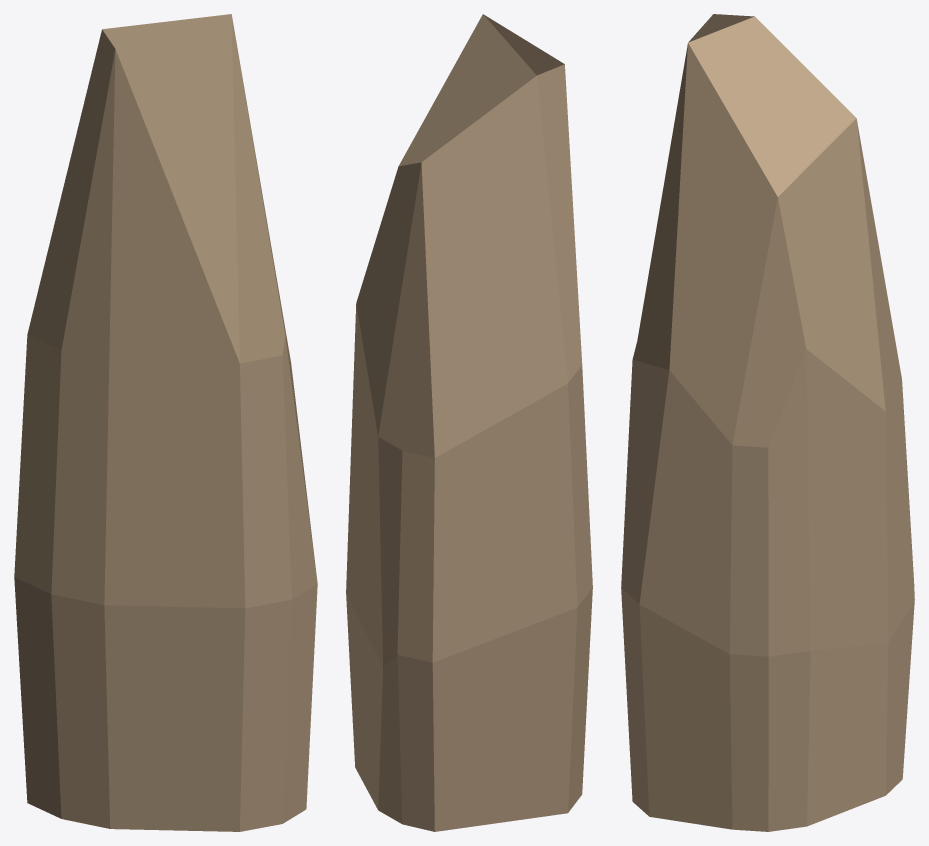
File: rock_20.FBX
3 views of the same model, side by side, from view 1: azimuth 30°, elevation 25°; view 2: azimuth 150°, elevation 25°; view 3: azimuth 270°, elevation 25° (orthographic). The views are drawn at different scales.
Parts seen in each view (by area): view 1: rock_20; view 2: rock_20; view 3: rock_20.
Part boxes in pixels (box(x1,y1,x2,y2)): rock_20: box(14, 14, 317, 831); rock_20: box(346, 14, 592, 831); rock_20: box(621, 14, 914, 831).
Size of the model in its own units: 689 by 2033 by 722.
